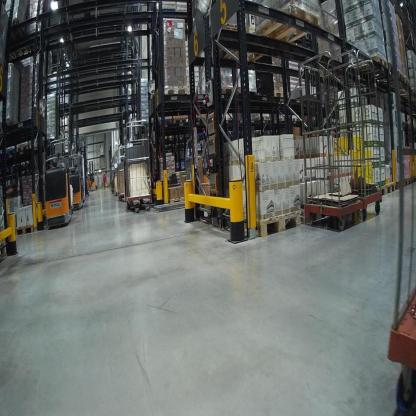forklift: (87, 157, 100, 193)
pallet: (221, 203, 305, 241), (251, 5, 324, 48), (230, 35, 271, 67), (209, 31, 245, 64), (4, 24, 35, 60), (346, 53, 387, 74), (369, 61, 397, 82), (159, 83, 190, 98), (381, 70, 404, 88), (391, 77, 412, 92), (217, 86, 240, 99), (15, 223, 35, 237), (2, 147, 17, 164), (368, 185, 386, 199), (151, 117, 173, 127), (382, 181, 397, 195), (272, 90, 291, 100), (0, 243, 11, 260), (173, 116, 191, 124), (15, 143, 30, 152), (391, 179, 403, 190), (403, 176, 412, 187)
pallet_truck: (37, 141, 77, 233), (65, 149, 90, 216), (82, 158, 91, 197)
